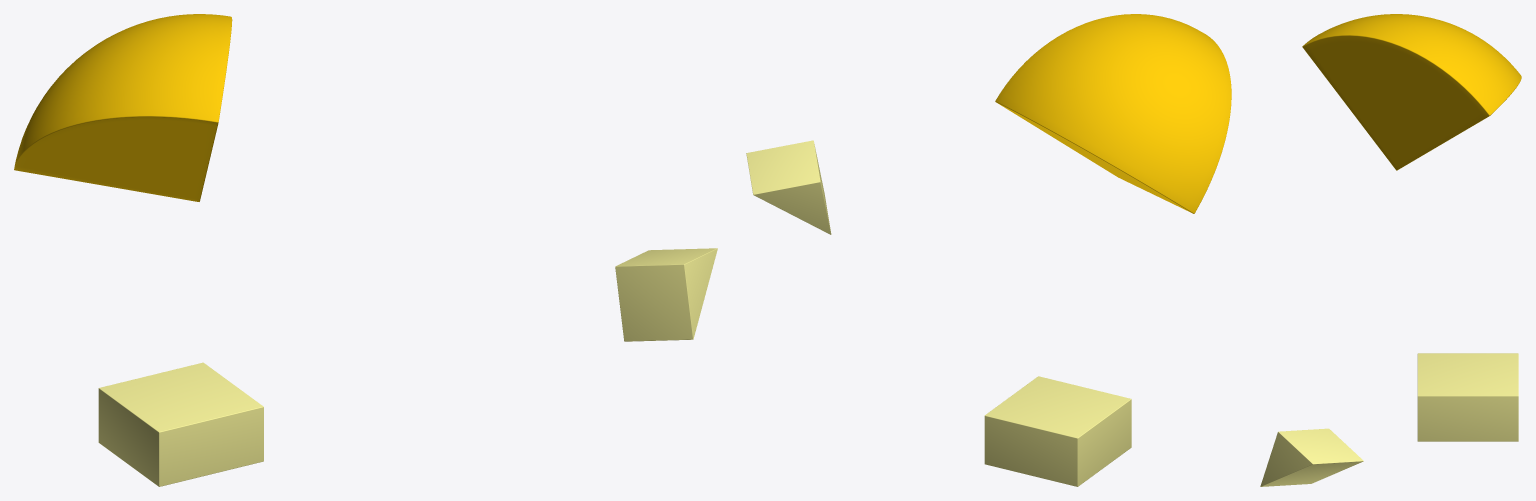
3 views of the same model, side by side, from view 1: azimuth 30°, elevation 25°; view 2: azimuth 150°, elevation 25°; view 3: azimuth 270°, elevation 25° (orthographic). The views are drawn at different scales.
Parts seen in each view (by area): view 1: Eight, Square, Triangle; view 2: Eight, Square, Triangle; view 3: Eight, Square, Triangle.
Boxes of the visible parts, bbox=[...] form: Eight: bbox=[14, 14, 232, 201]; Square: bbox=[98, 362, 263, 486]; Triangle: bbox=[615, 248, 717, 341]; Eight: bbox=[995, 14, 1231, 213]; Square: bbox=[984, 376, 1131, 486]; Triangle: bbox=[746, 140, 831, 234]; Eight: bbox=[1302, 14, 1521, 170]; Square: bbox=[1417, 353, 1518, 441]; Triangle: bbox=[1260, 428, 1363, 486].
Bounding box in the file's own units: 6.45 × 4.64 × 2.88.
